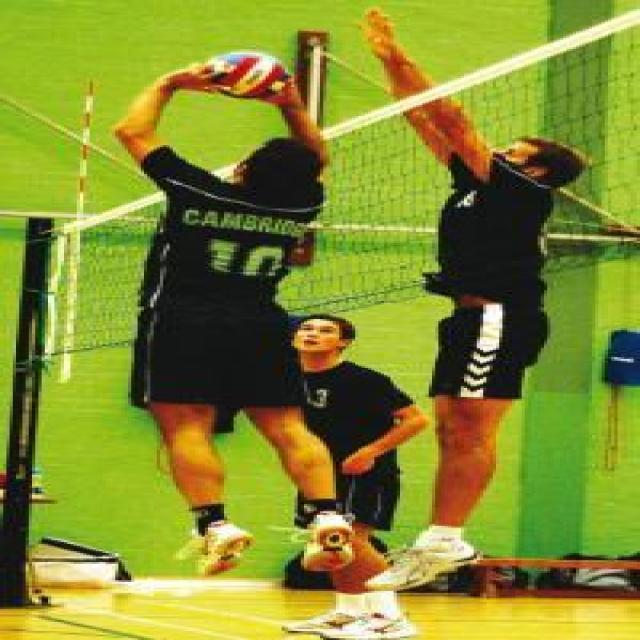volleyball: (205, 52, 292, 100)
